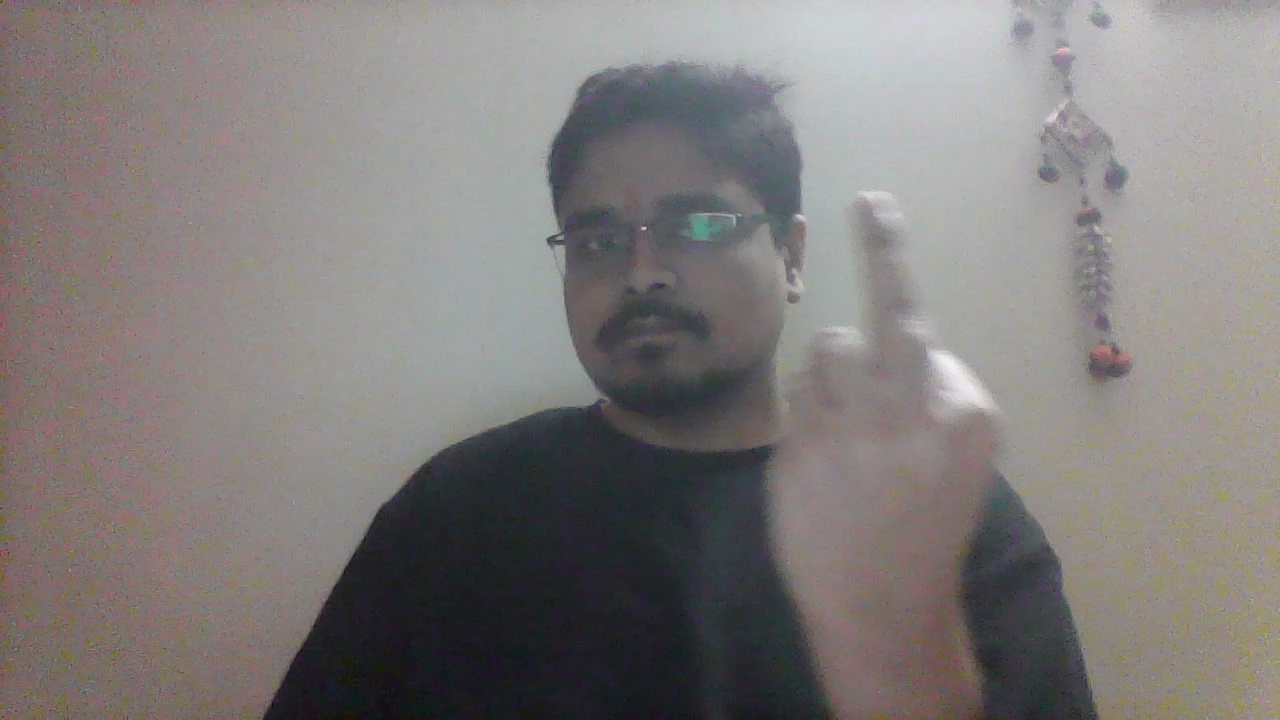Fuck Off: (763, 188, 994, 688)
